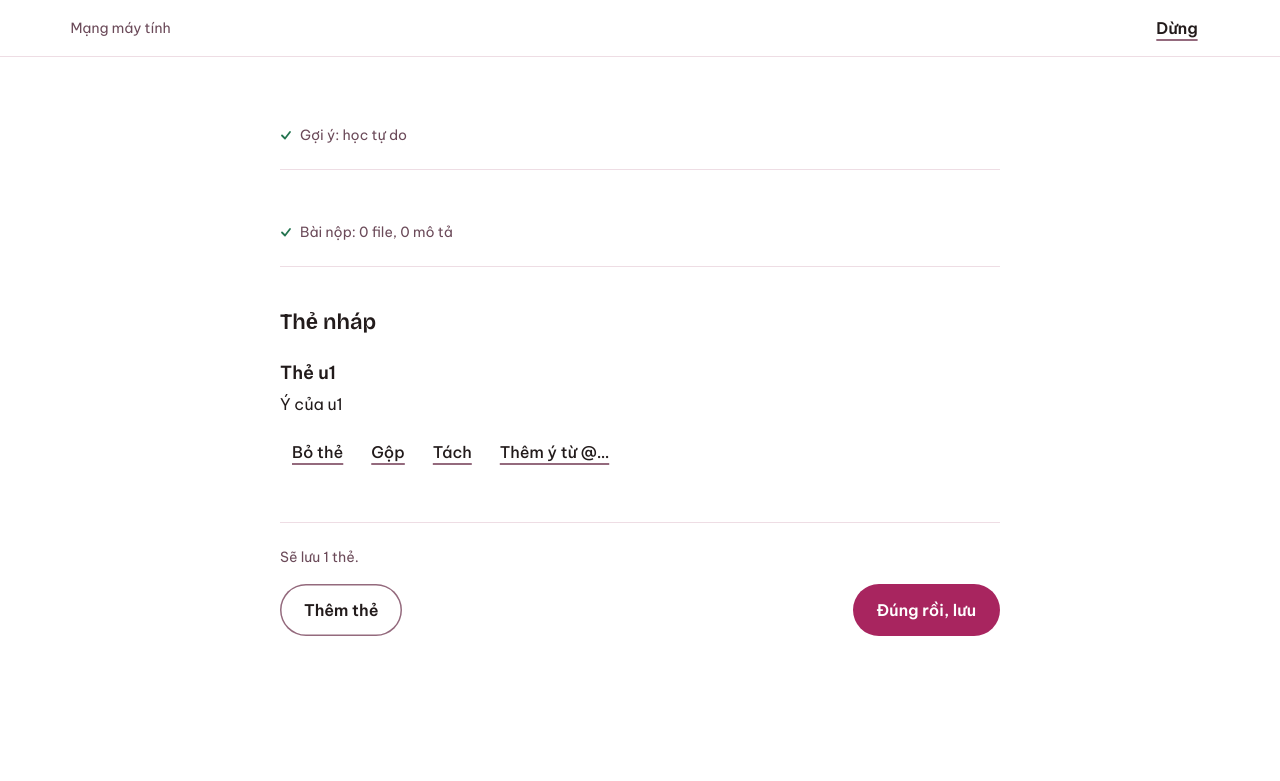
Test: study session on core-api › a 409 on Save marks the card that changed
Click the button "Đúng rồi, lưu" at (926, 610), box [852,584,1000,636]
Wait 50 ms
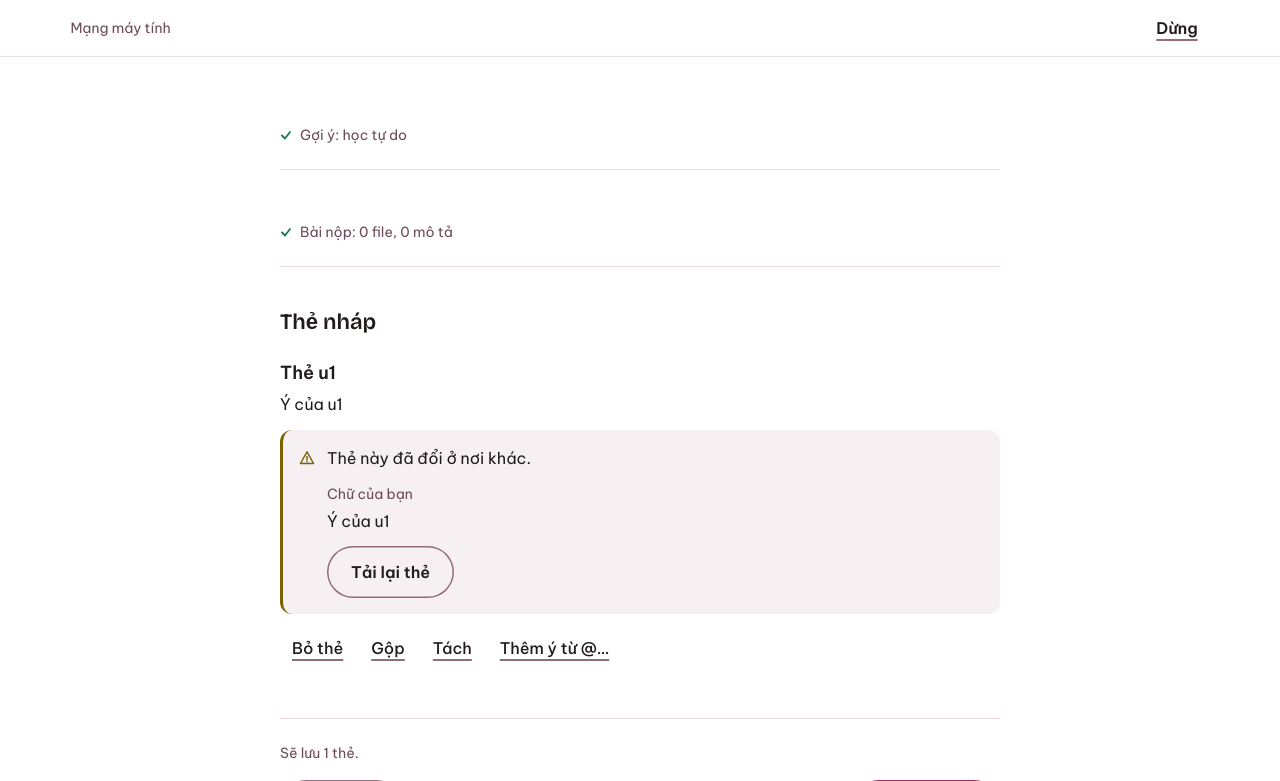
Expected: the text "Thẻ này đã đổi ở nơi khác." is shown, [327,446,531,472]
